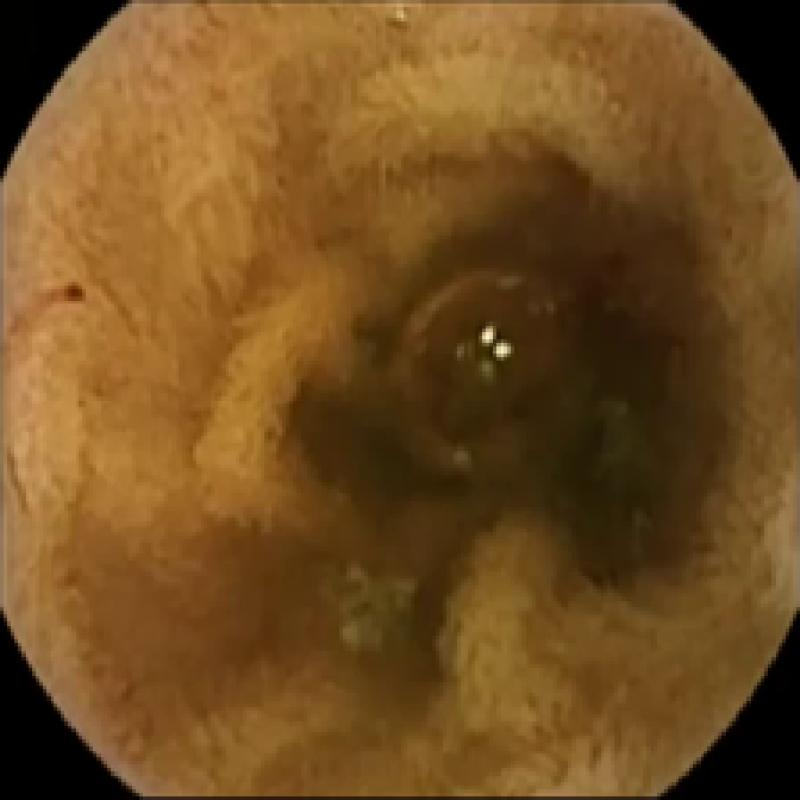bleeding: (11, 279, 82, 325)
